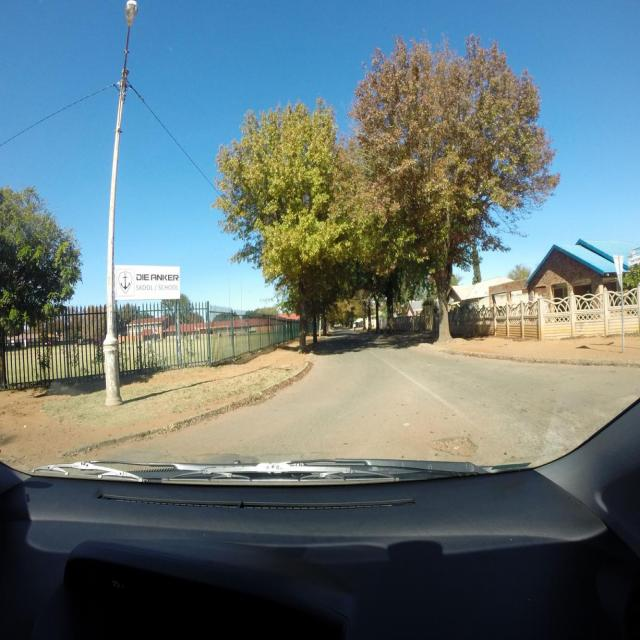Pothole: (427, 438, 478, 458)
